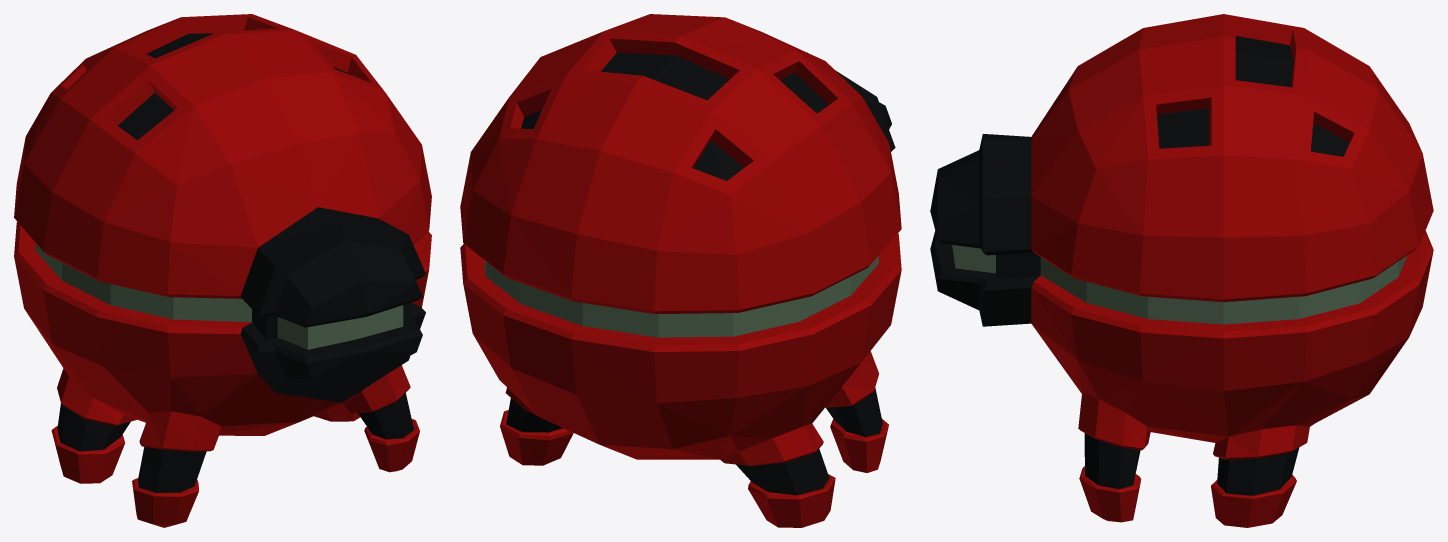
The model's file is roly_poly2.obj.
The picture shows the model from 3 angles, left to right: view 1: azimuth 30°, elevation 25°; view 2: azimuth 150°, elevation 25°; view 3: azimuth 270°, elevation 25°; orthographic projection. The views are drawn at different scales.
Visible parts, largest first — view 1: Cube.001_red_accent, Cube.001_black_body, Cube.001_white_decal; view 2: Cube.001_red_accent, Cube.001_black_body, Cube.001_white_decal; view 3: Cube.001_red_accent, Cube.001_black_body, Cube.001_white_decal.
Part boxes in pixels (bbox=[...]): Cube.001_red_accent: bbox=[14, 14, 431, 527]; Cube.001_black_body: bbox=[57, 33, 425, 492]; Cube.001_white_decal: bbox=[35, 243, 403, 349]; Cube.001_red_accent: bbox=[460, 14, 901, 527]; Cube.001_black_body: bbox=[506, 52, 895, 495]; Cube.001_white_decal: bbox=[484, 256, 878, 337]; Cube.001_red_accent: bbox=[1031, 14, 1433, 527]; Cube.001_black_body: bbox=[930, 36, 1349, 495]; Cube.001_white_decal: bbox=[952, 245, 1407, 324].
Size of the model in its own units: 0.2342 by 0.2628 by 0.2807.
